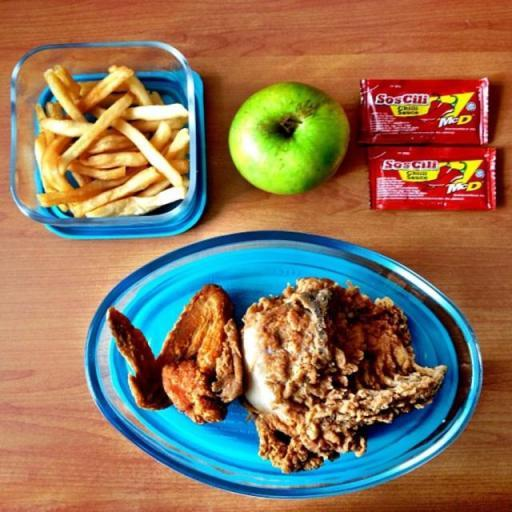fruit: (230, 83, 348, 194)
